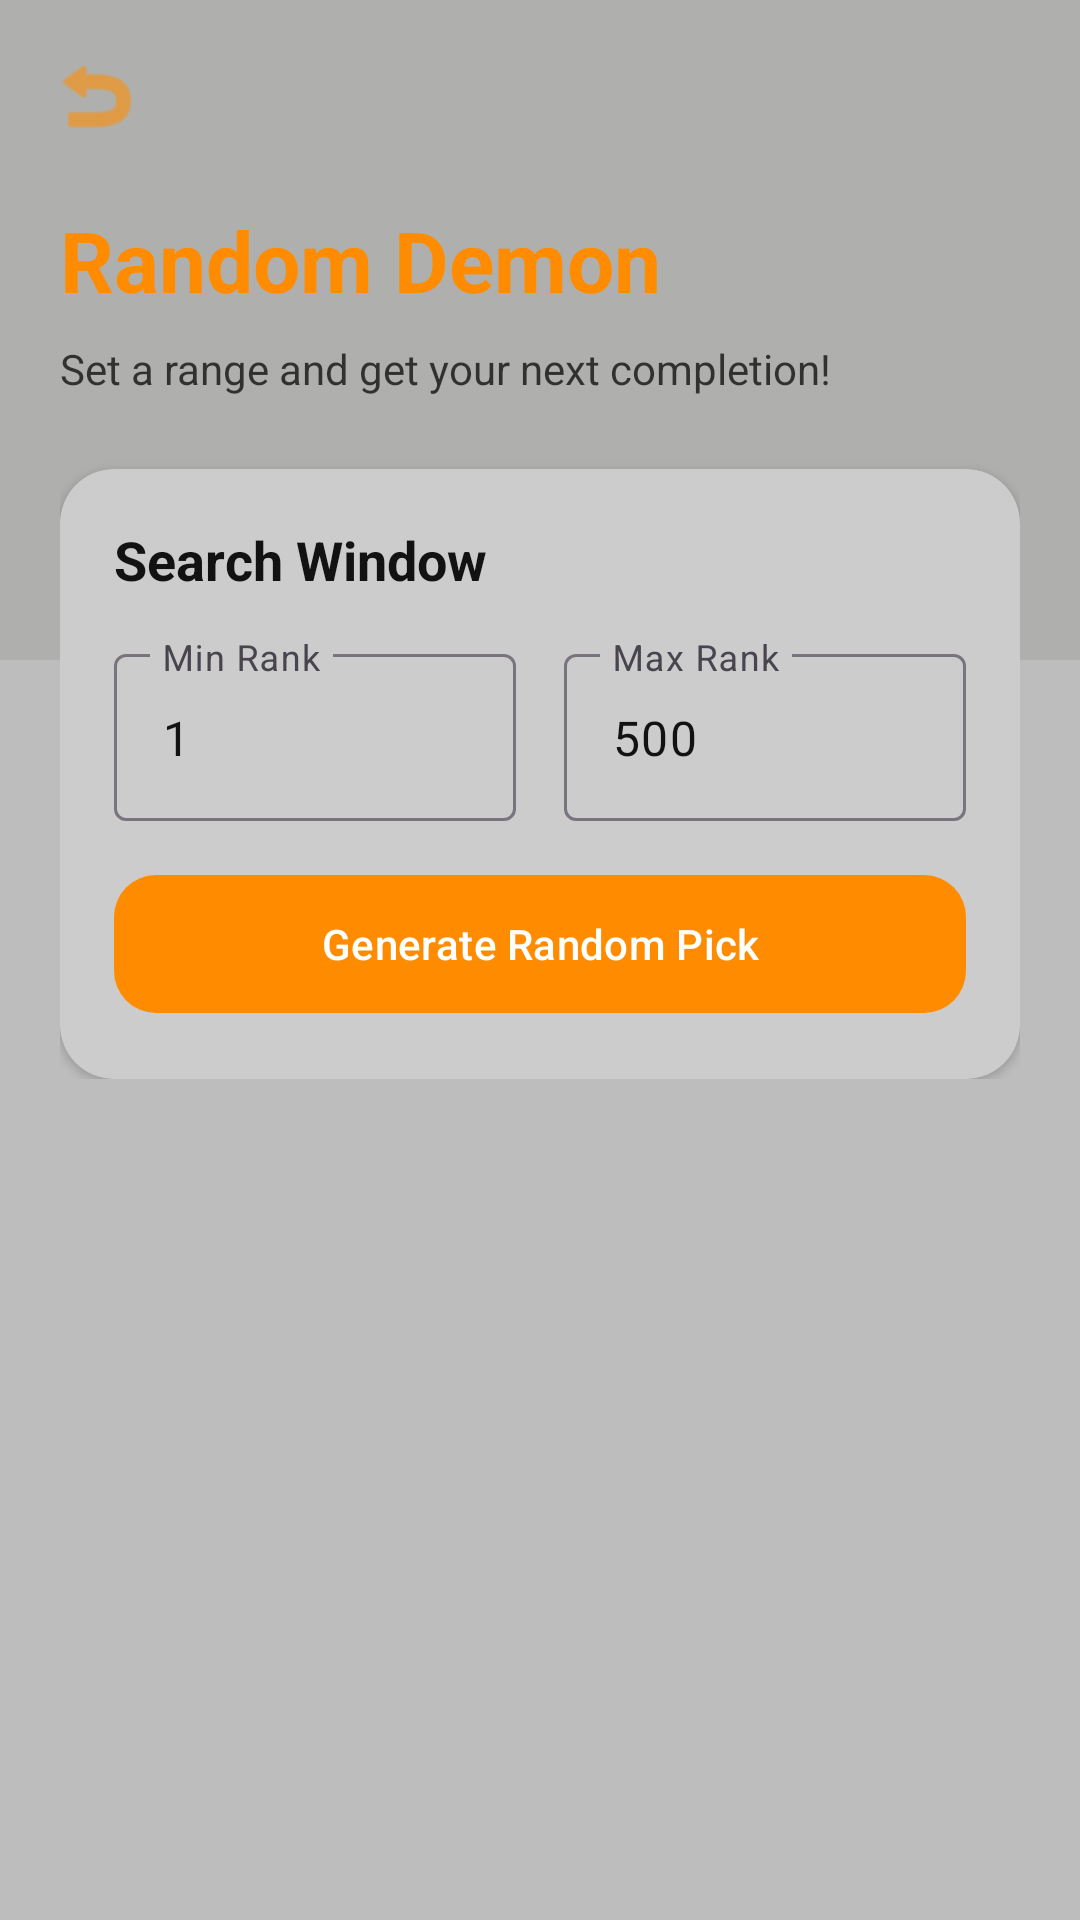

Where to tap for icons on this 1080px x 1920px app screen, as point (x, y):
revert: point (97, 96)
